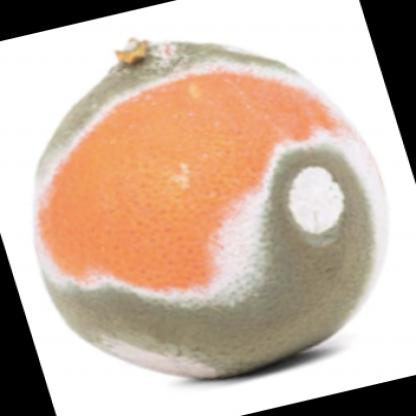rotten_orange: (22, 27, 391, 384)
